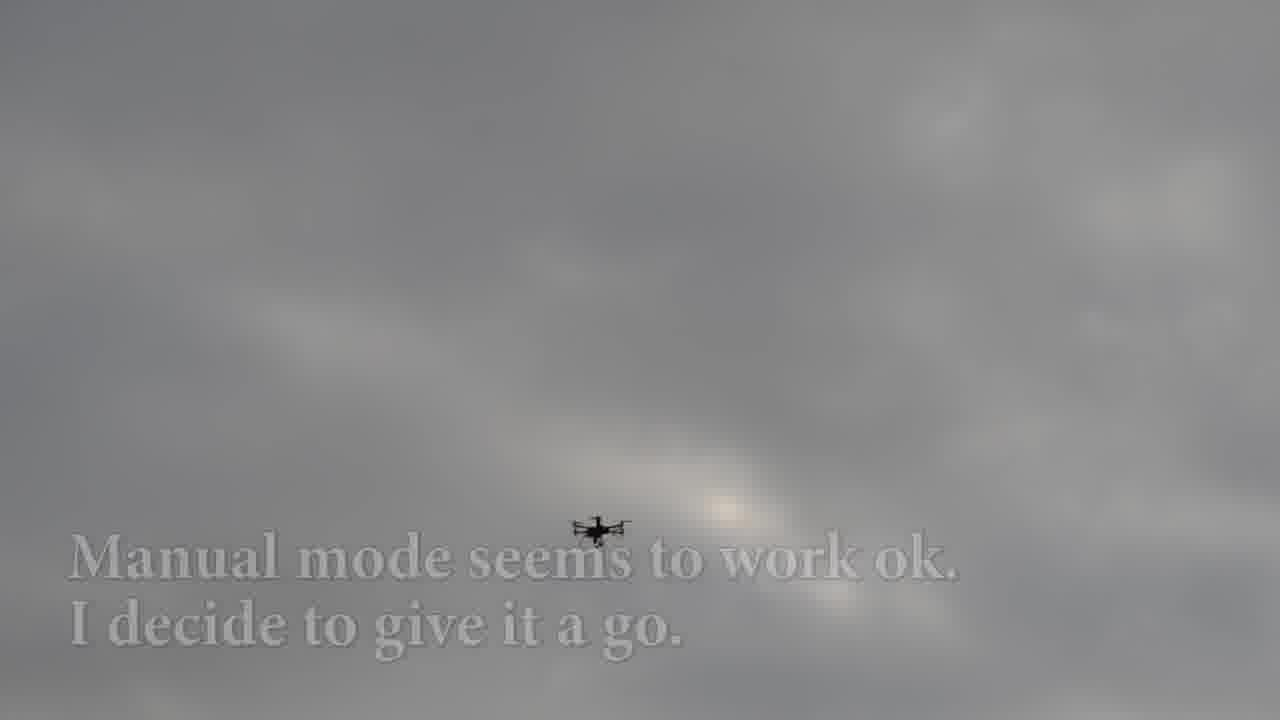drone: (572, 508, 634, 548)
